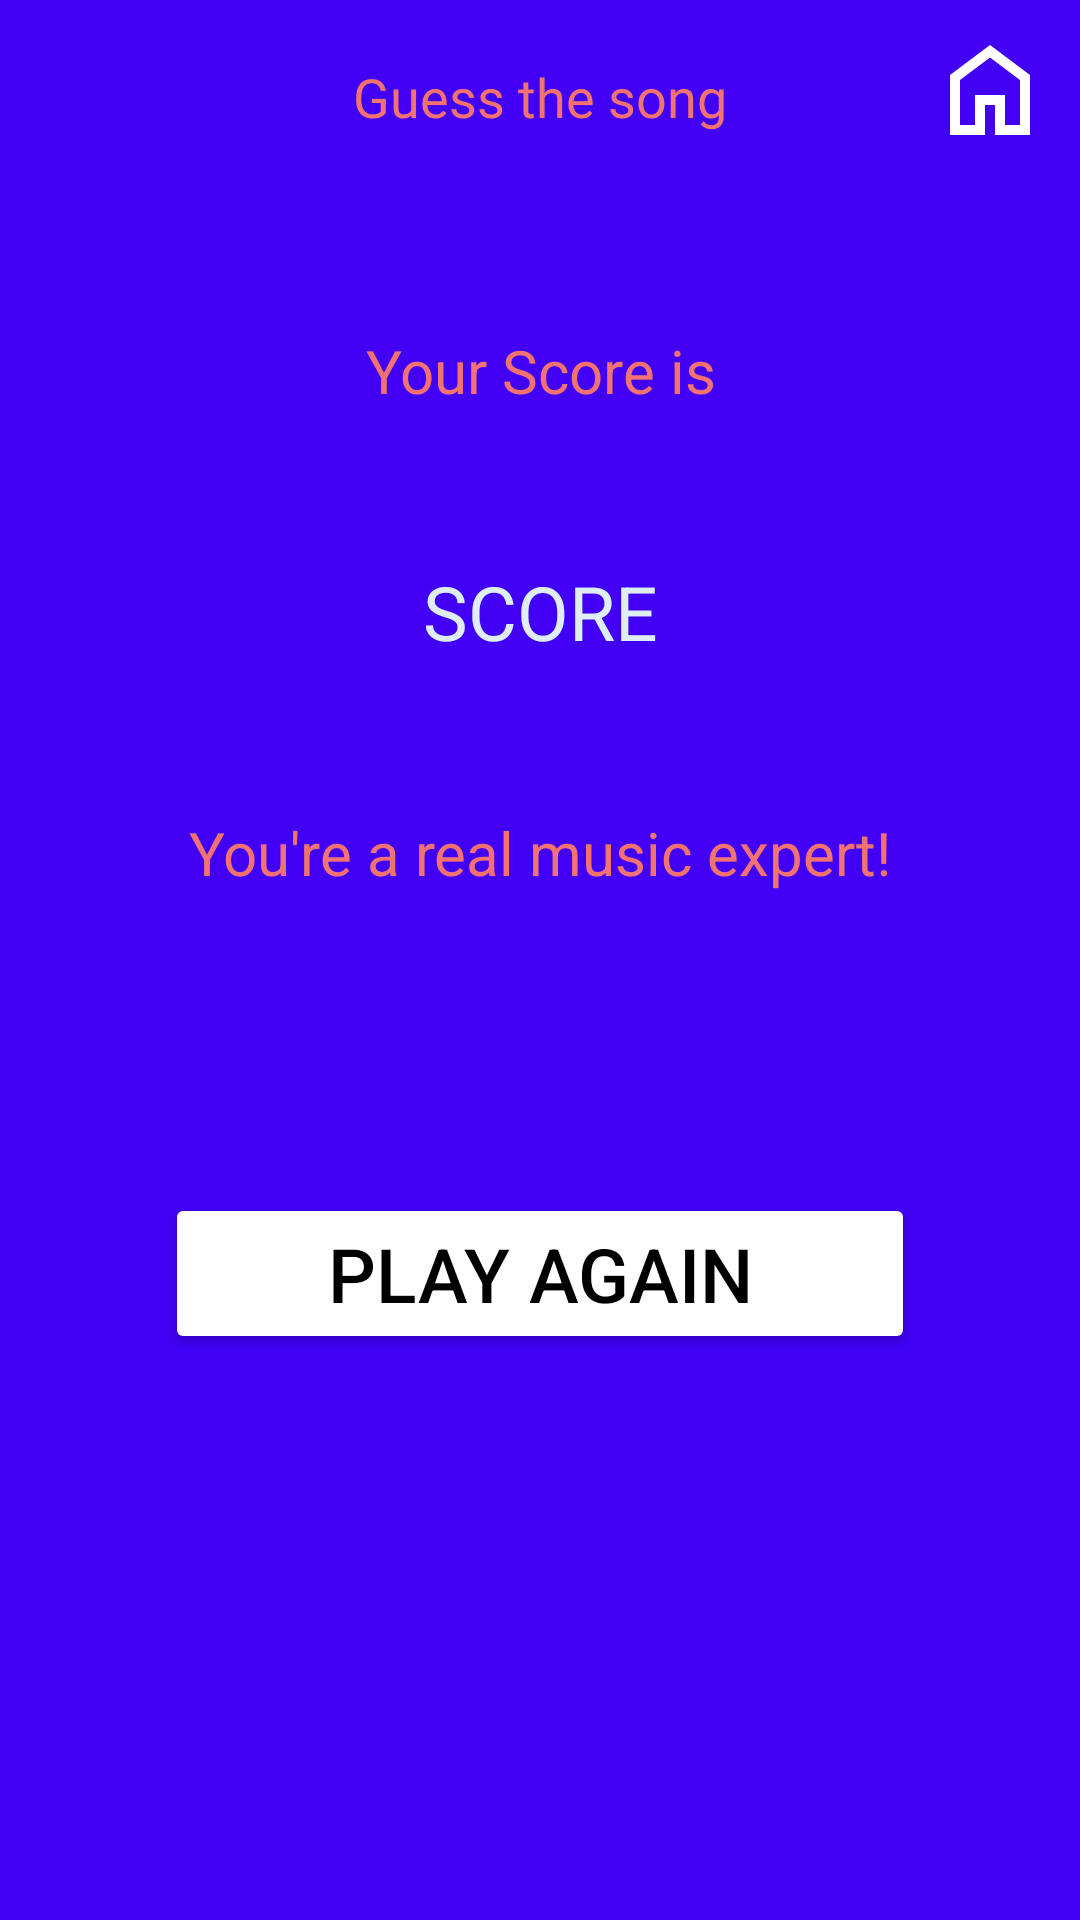

Icon bounding boxes for this 1080×1920 phone screenshot, format (x1, y1, x2, y2):
home: (950, 45, 1030, 135)
